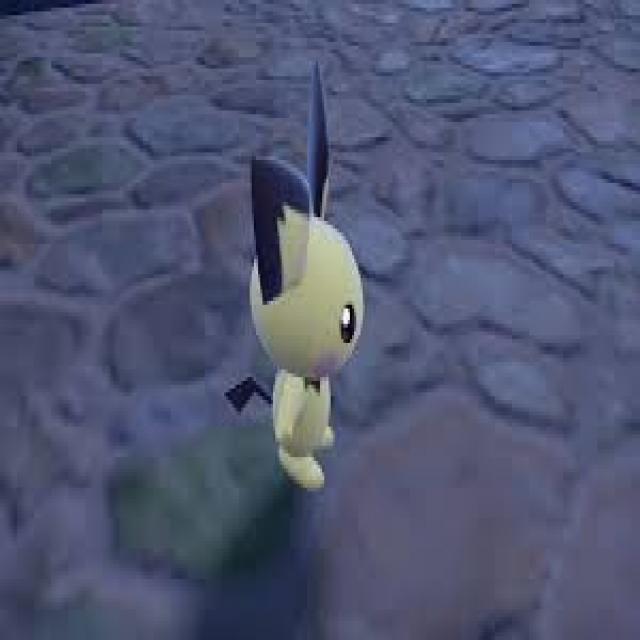pichu: (216, 55, 381, 518)
